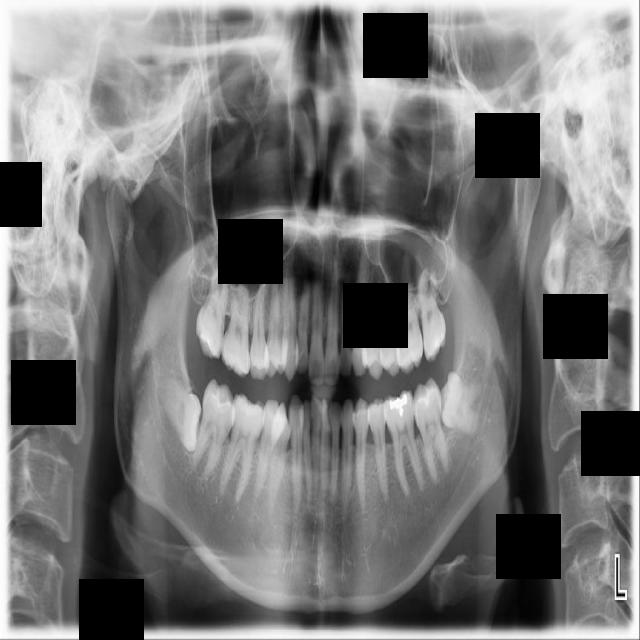52: (198, 376, 238, 436), (383, 388, 415, 436), (412, 377, 442, 427), (422, 313, 447, 363)
73: (590, 561, 596, 579)
BioHorizons Implant: (412, 248, 449, 363)
Biomet 3i Implant: (436, 369, 484, 436)
Blue Sky Bio Implant: (409, 375, 451, 486)
Caries: (192, 252, 232, 360)
Implant: (189, 378, 240, 482)
Keystone Dental Implant: (149, 368, 222, 455)
